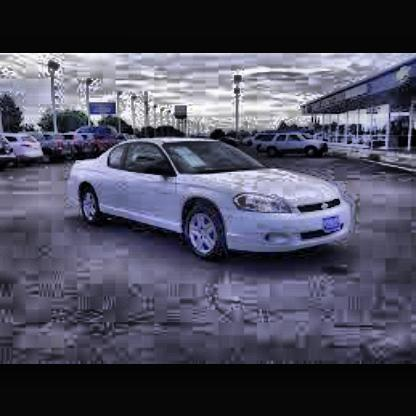Chevrolet Monte Carlo Coupe 2007: (63, 133, 356, 274)
